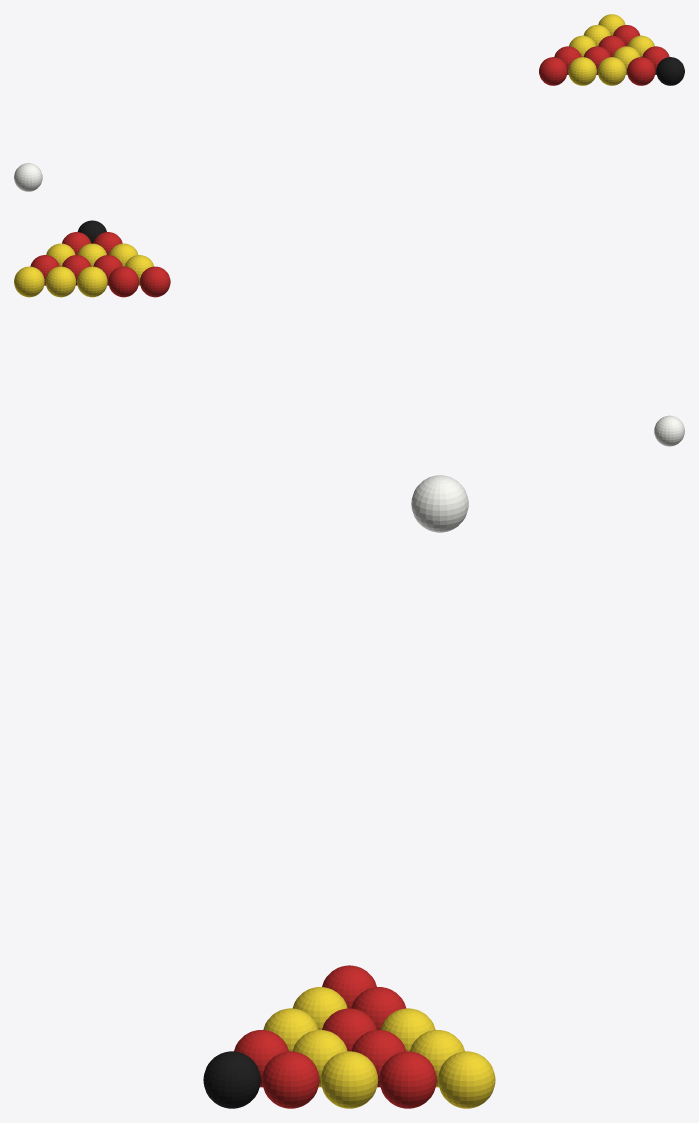
The model's file is EnglishPoolBalls_Standard_16.fbx.
3 renders of one model, top to bottom at view 1: azimuth 30°, elevation 25°; view 2: azimuth 150°, elevation 25°; view 3: azimuth 270°, elevation 25°, orthographic. The views are drawn at different scales.
Parts seen in each view (by area): view 1: EPBall_R_1, EPBall_R_7, EPBall_Y_2, EPBall_K_11, EPBall_White_Cue, EPBall_Y_4, EPBall_R_5, EPBall_R_3, EPBall_R_12, EPBall_Y_8, EPBall_R_9, EPBall_Y_10 (+4 smaller); view 2: EPBall_Y_6, EPBall_Y_15, EPBall_White_Cue, EPBall_R_3, EPBall_Y_10, EPBall_R_1, EPBall_R_5, EPBall_R_14, EPBall_R_9, EPBall_Y_2, EPBall_Y_8, EPBall_Y_4 (+4 smaller); view 3: EPBall_Y_13, EPBall_K_11, EPBall_R_12, EPBall_R_14, EPBall_Y_15, EPBall_White_Cue, EPBall_R_7, EPBall_Y_10, EPBall_Y_8, EPBall_R_9, EPBall_Y_4, EPBall_Y_6 (+4 smaller).
Part boxes in pixels (x1=…): EPBall_R_1: x1=539, y1=57, x2=567, y2=85; EPBall_R_7: x1=627, y1=57, x2=655, y2=85; EPBall_Y_2: x1=568, y1=57, x2=596, y2=85; EPBall_K_11: x1=656, y1=57, x2=684, y2=85; EPBall_White_Cue: x1=14, y1=163, x2=42, y2=191; EPBall_Y_4: x1=597, y1=57, x2=626, y2=85; EPBall_R_5: x1=583, y1=46, x2=610, y2=74; EPBall_R_3: x1=554, y1=46, x2=581, y2=74; EPBall_R_12: x1=642, y1=46, x2=669, y2=74; EPBall_Y_8: x1=613, y1=46, x2=640, y2=74; EPBall_R_9: x1=598, y1=35, x2=625, y2=56; EPBall_Y_10: x1=583, y1=25, x2=610, y2=46; EPBall_Y_6: x1=77, y1=266, x2=107, y2=297; EPBall_Y_15: x1=14, y1=266, x2=44, y2=297; EPBall_White_Cue: x1=654, y1=415, x2=684, y2=446; EPBall_R_3: x1=108, y1=266, x2=138, y2=297; EPBall_Y_10: x1=45, y1=266, x2=76, y2=297; EPBall_R_1: x1=140, y1=266, x2=170, y2=297; EPBall_R_5: x1=93, y1=255, x2=122, y2=285; EPBall_R_14: x1=30, y1=255, x2=59, y2=285; EPBall_R_9: x1=62, y1=255, x2=91, y2=285; EPBall_Y_2: x1=125, y1=255, x2=153, y2=285; EPBall_Y_8: x1=77, y1=243, x2=106, y2=266; EPBall_Y_4: x1=109, y1=243, x2=138, y2=266; EPBall_Y_13: x1=320, y1=1051, x2=378, y2=1108; EPBall_K_11: x1=203, y1=1051, x2=260, y2=1108; EPBall_R_12: x1=262, y1=1051, x2=319, y2=1108; EPBall_R_14: x1=379, y1=1051, x2=436, y2=1108; EPBall_Y_15: x1=438, y1=1051, x2=495, y2=1108; EPBall_White_Cue: x1=411, y1=475, x2=468, y2=532; EPBall_R_7: x1=234, y1=1030, x2=288, y2=1087; EPBall_Y_10: x1=410, y1=1030, x2=464, y2=1087; EPBall_Y_8: x1=293, y1=1030, x2=347, y2=1087; EPBall_R_9: x1=351, y1=1030, x2=405, y2=1087; EPBall_Y_4: x1=263, y1=1008, x2=318, y2=1051; EPBall_Y_6: x1=380, y1=1008, x2=435, y2=1051.
Size of the model in its own units: 1.25 by 0.0508 by 0.2581.
